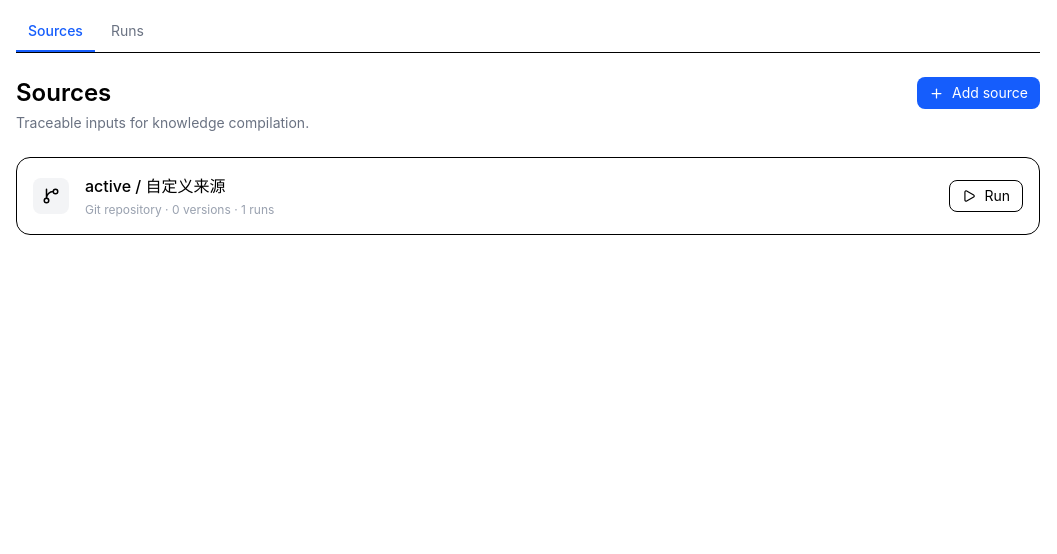
Scenario: SourcesPage file upload › localizes source and run states in en while preserving the source name
The width and height of the screenshot is (1057, 554).
Click the button "active / 自定义来源 Git repository · 0 versions · 1 runs": (155, 186) [85,174,933,218]
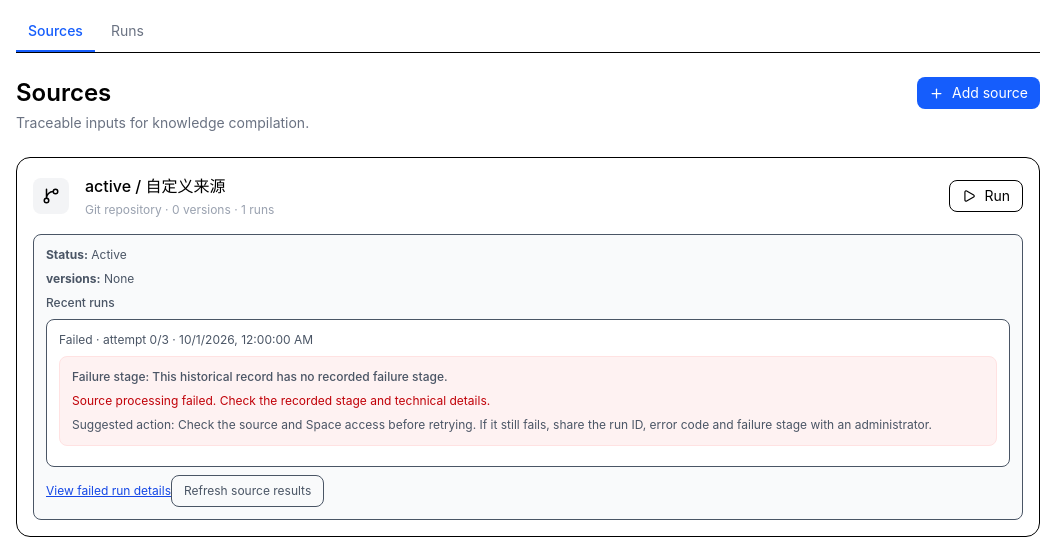
Check: the text "active / 自定义来源" is shown, box [85,176,226,196]
Check: the text "Active" is shown, box [91,247,127,262]
Check: the text "Failed" is shown, box [59,332,93,347]
